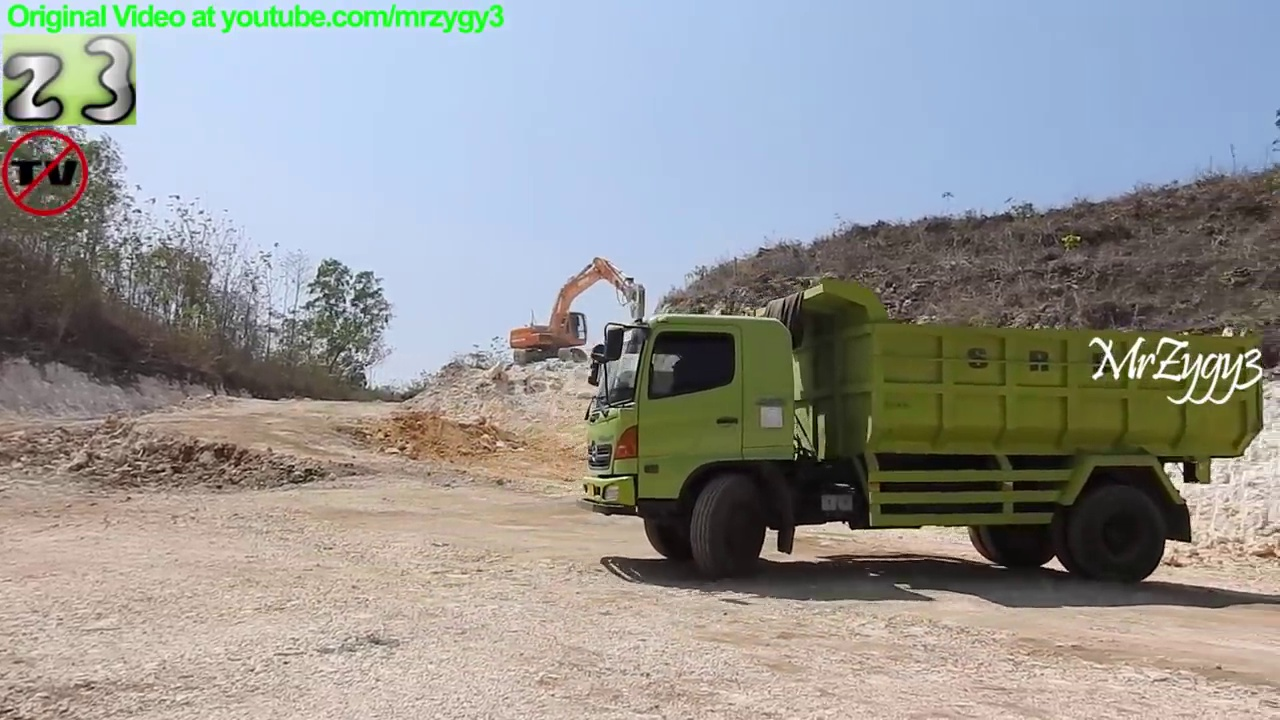excavator: (505, 250, 648, 371)
truck: (574, 272, 1272, 590)
